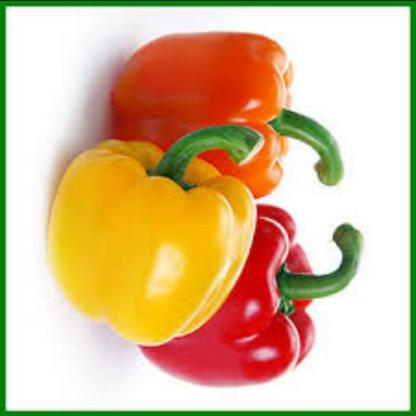bell pepper: (46, 144, 258, 350), (102, 26, 343, 204), (119, 206, 327, 386)
